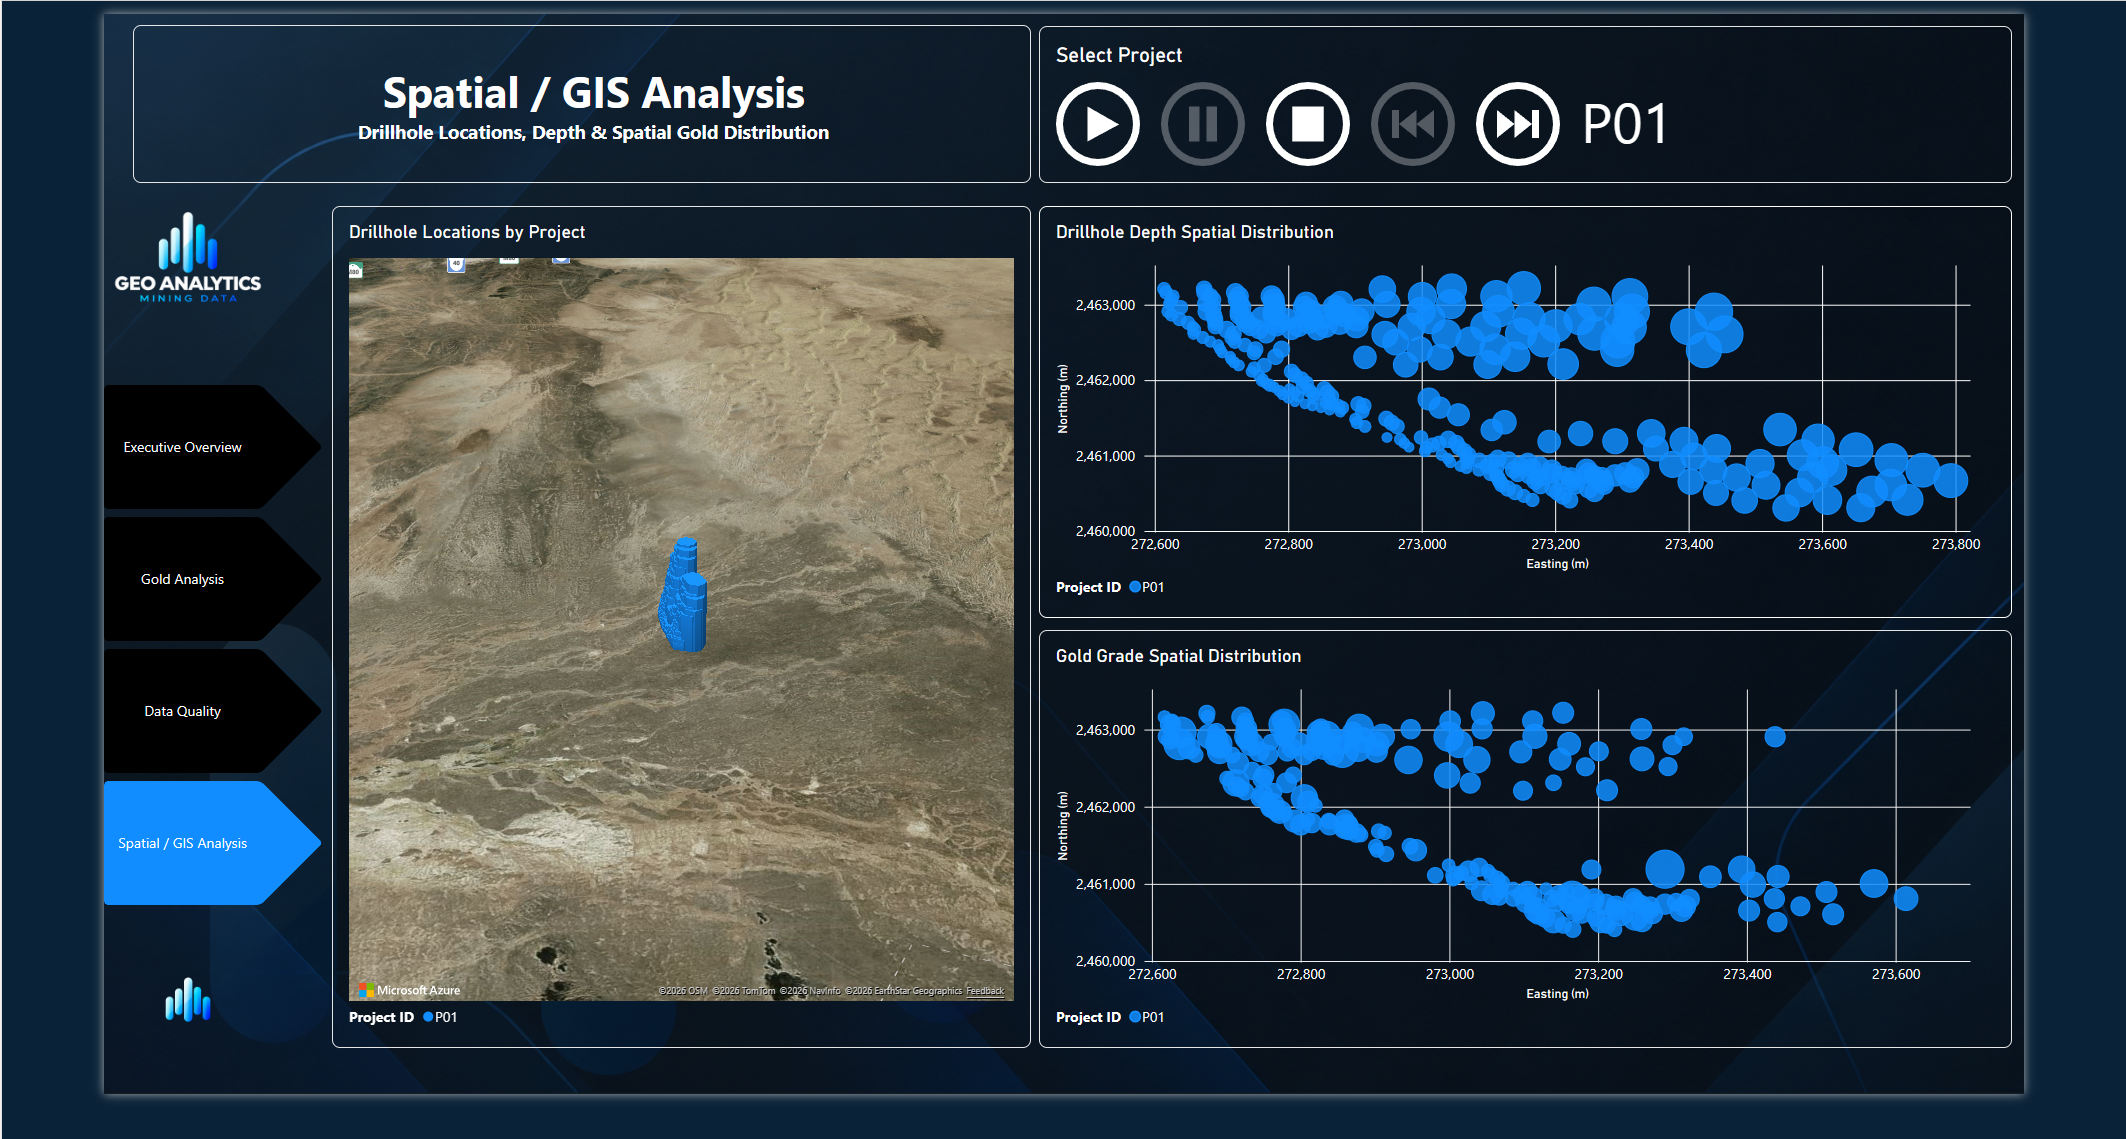

The dashboard page shown, as its layout file describes it:
{"tool":"powerbi","page":{"name":"Spatial / GIS Analysis","canvas":[1920,1080],"ordinal":3},"visuals":[{"type":"scatterChart","title":"Gold Grade Spatial Distribution","fields":{"Series":["Drillholes_Map.Project_ID"],"Size":["Max(mining_geology_project intercepts.Au_g_t)"],"X":["mining_geology_project drillholes.Easting_m"],"Y":["mining_geology_project drillholes.Northing_m"]},"box":[935.2,603.9,984.8,476.2],"z":3000},{"type":"scatterChart","title":"Drillhole Depth Spatial Distribution","fields":{"Series":["Drillholes_Map.Project_ID"],"Size":["Max(Drillholes_Map.Total_Depth_m)"],"X":["mining_geology_project drillholes.Easting_m"],"Y":["mining_geology_project drillholes.Northing_m"]},"box":[935.1,166.7,984.9,436.9],"z":4000},{"type":"textbox","box":[0,0,1026.9,166.6],"z":5000},{"type":"azureMap","title":"Drillhole Locations by Project","fields":{"Series":["Drillholes_Map.Project_ID"],"Size":["Max(Drillholes_Map.Total_Depth_m)"],"X":["Drillholes_Map.Longitude"],"Y":["Drillholes_Map.Latitude"]},"box":[0,166.6,935,913.5],"z":6000},{"type":"PBI_CV_16948668_E17D_454B_8664_2F2C470EA8C1","fields":{"category":["Drillholes_Map.Project_ID"]},"box":[1131.2,0,788.8,166.6],"z":7000}]}

Visuals, with their boxes on the page's 1920x1080 design canvas (x1, y1, x2, y2). These are canvas units, not pixel positions in the 2126x1139 screenshot, which may show the page scaled, cropped or inside an application window:
"Gold Grade Spatial Distribution" scatterChart: 935,604,1920,1080
"Drillhole Depth Spatial Distribution" scatterChart: 935,167,1920,604
textbox: 0,0,1027,167
"Drillhole Locations by Project" azureMap: 0,167,935,1080
PBI_CV_16948668_E17D_454B_8664_2F2C470EA8C1 - Drillholes_Map.Project_ID: 1131,0,1920,167
